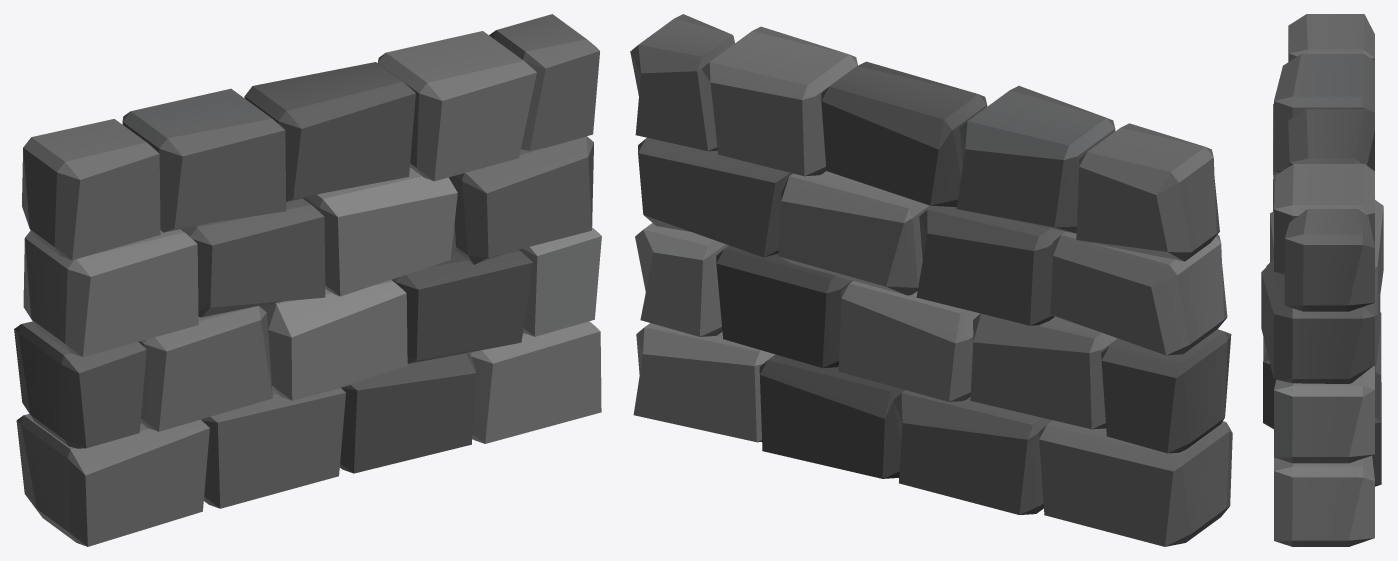
File: Fence_Rock_B.fbx
The picture shows the model from 3 angles, left to right: view 1: azimuth 30°, elevation 25°; view 2: azimuth 150°, elevation 25°; view 3: azimuth 270°, elevation 25°; orthographic projection. The views are drawn at different scales.
Parts seen in each view (by area): view 1: Fence_Rock_B; view 2: Fence_Rock_B; view 3: Fence_Rock_B.
Part boxes in pixels (left/top/right/bottom): Fence_Rock_B: left=14, top=14, right=601, bottom=546; Fence_Rock_B: left=630, top=14, right=1232, bottom=546; Fence_Rock_B: left=1261, top=14, right=1383, bottom=546.
Bounding box in the file's own units: 225 × 148 × 51.46.
